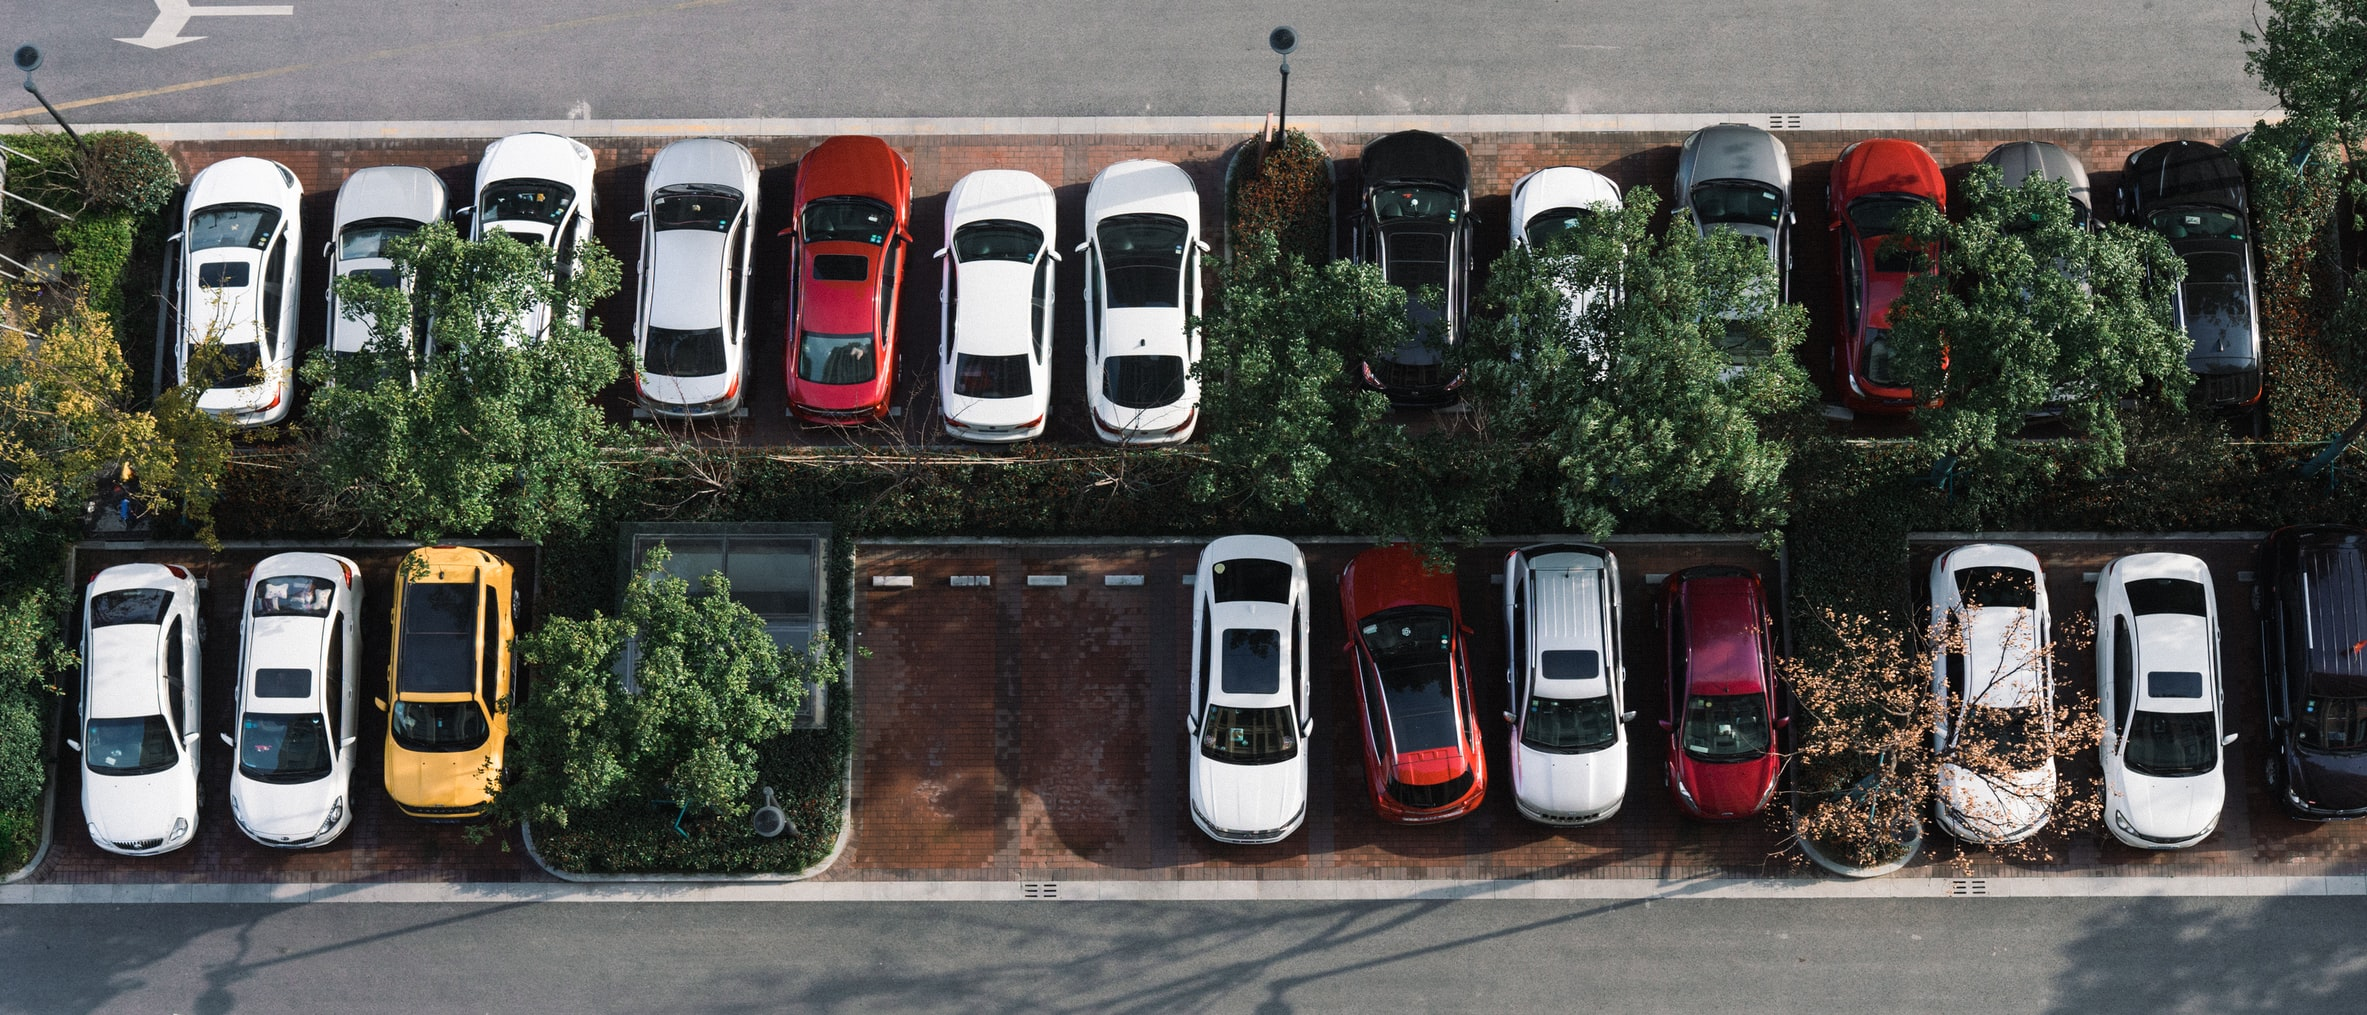car: (1908, 538, 2083, 868), (2107, 137, 2295, 437), (1321, 541, 1507, 838), (1485, 523, 1647, 853), (1170, 526, 1328, 862), (146, 139, 311, 450), (1060, 137, 1215, 464), (1632, 550, 1798, 837), (2092, 538, 2242, 852), (779, 127, 927, 433), (234, 539, 370, 867), (66, 563, 211, 868), (619, 125, 764, 430), (383, 523, 521, 837), (1819, 122, 1964, 420), (1667, 122, 1802, 433), (1350, 110, 1479, 424), (460, 110, 593, 406), (930, 168, 1067, 449), (1504, 147, 1638, 405), (317, 154, 447, 400)
